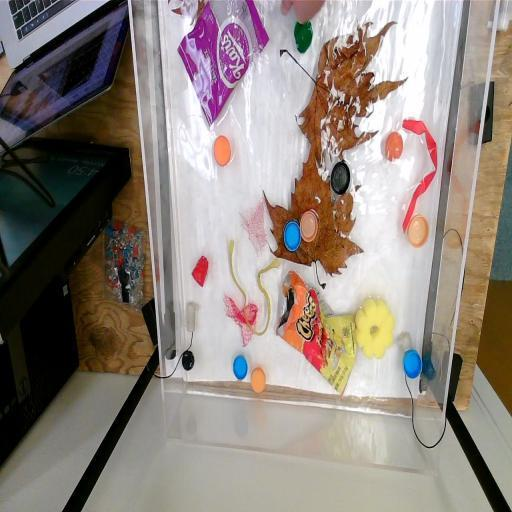Bottle Cap: (328, 160, 352, 198), (406, 216, 430, 252), (382, 130, 405, 166), (212, 134, 234, 170), (294, 18, 316, 54), (402, 348, 424, 382), (300, 209, 320, 243), (284, 220, 302, 252), (250, 366, 268, 396), (232, 353, 248, 382), (180, 350, 196, 372)
Cone Cap: (190, 253, 210, 291)
Leaf: (284, 30, 400, 163), (266, 151, 366, 282), (165, 0, 213, 24)
Netting: (223, 292, 262, 350), (239, 199, 270, 255)
Plastic Bag: (176, 0, 270, 128), (276, 270, 358, 399)
Plastic Strand: (225, 238, 280, 336), (402, 116, 440, 234)
Sponge: (356, 295, 396, 363)
